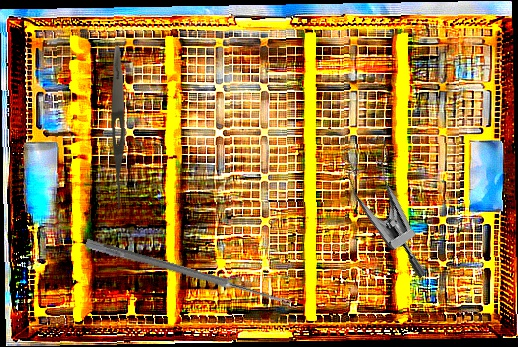Dressing Forceps: (110, 45, 127, 211)
Speculum: (317, 124, 472, 280)
Surgical Spoon: (84, 238, 293, 308)
